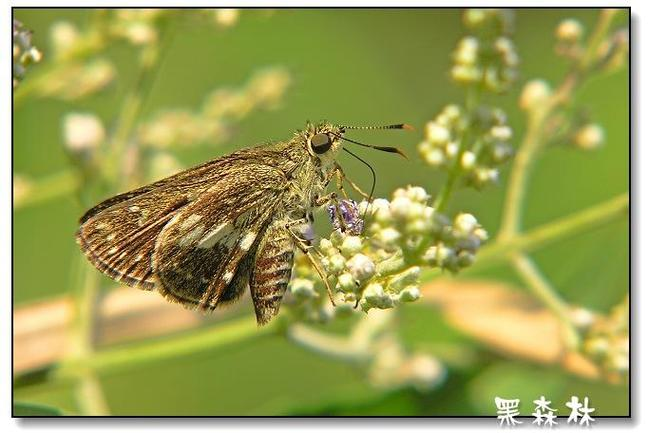Hesperiidae: (73, 117, 412, 329)
